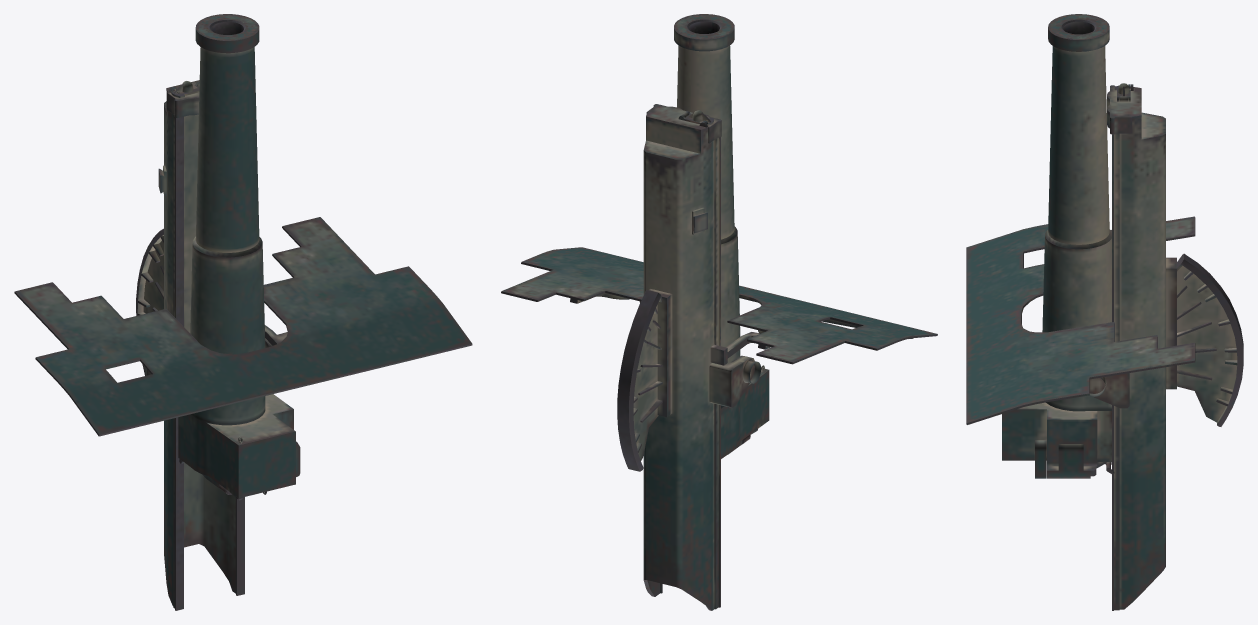
Rendered from Gun_01.glb.
3 renders of one model, left to right at view 1: azimuth 30°, elevation 25°; view 2: azimuth 150°, elevation 25°; view 3: azimuth 270°, elevation 25°, orthographic. The views are drawn at different scales.
Visible parts, largest first — view 1: set_0_group_0; view 2: set_0_group_0; view 3: set_0_group_0.
Part boxes in pixels (x1=…): set_0_group_0: x1=14, y1=14, x2=472, y2=610; set_0_group_0: x1=501, y1=14, x2=937, y2=610; set_0_group_0: x1=966, y1=14, x2=1243, y2=610.
Bounding box in the file's own units: 1.96 × 2.95 × 1.31.
1 material, 1 textured.
